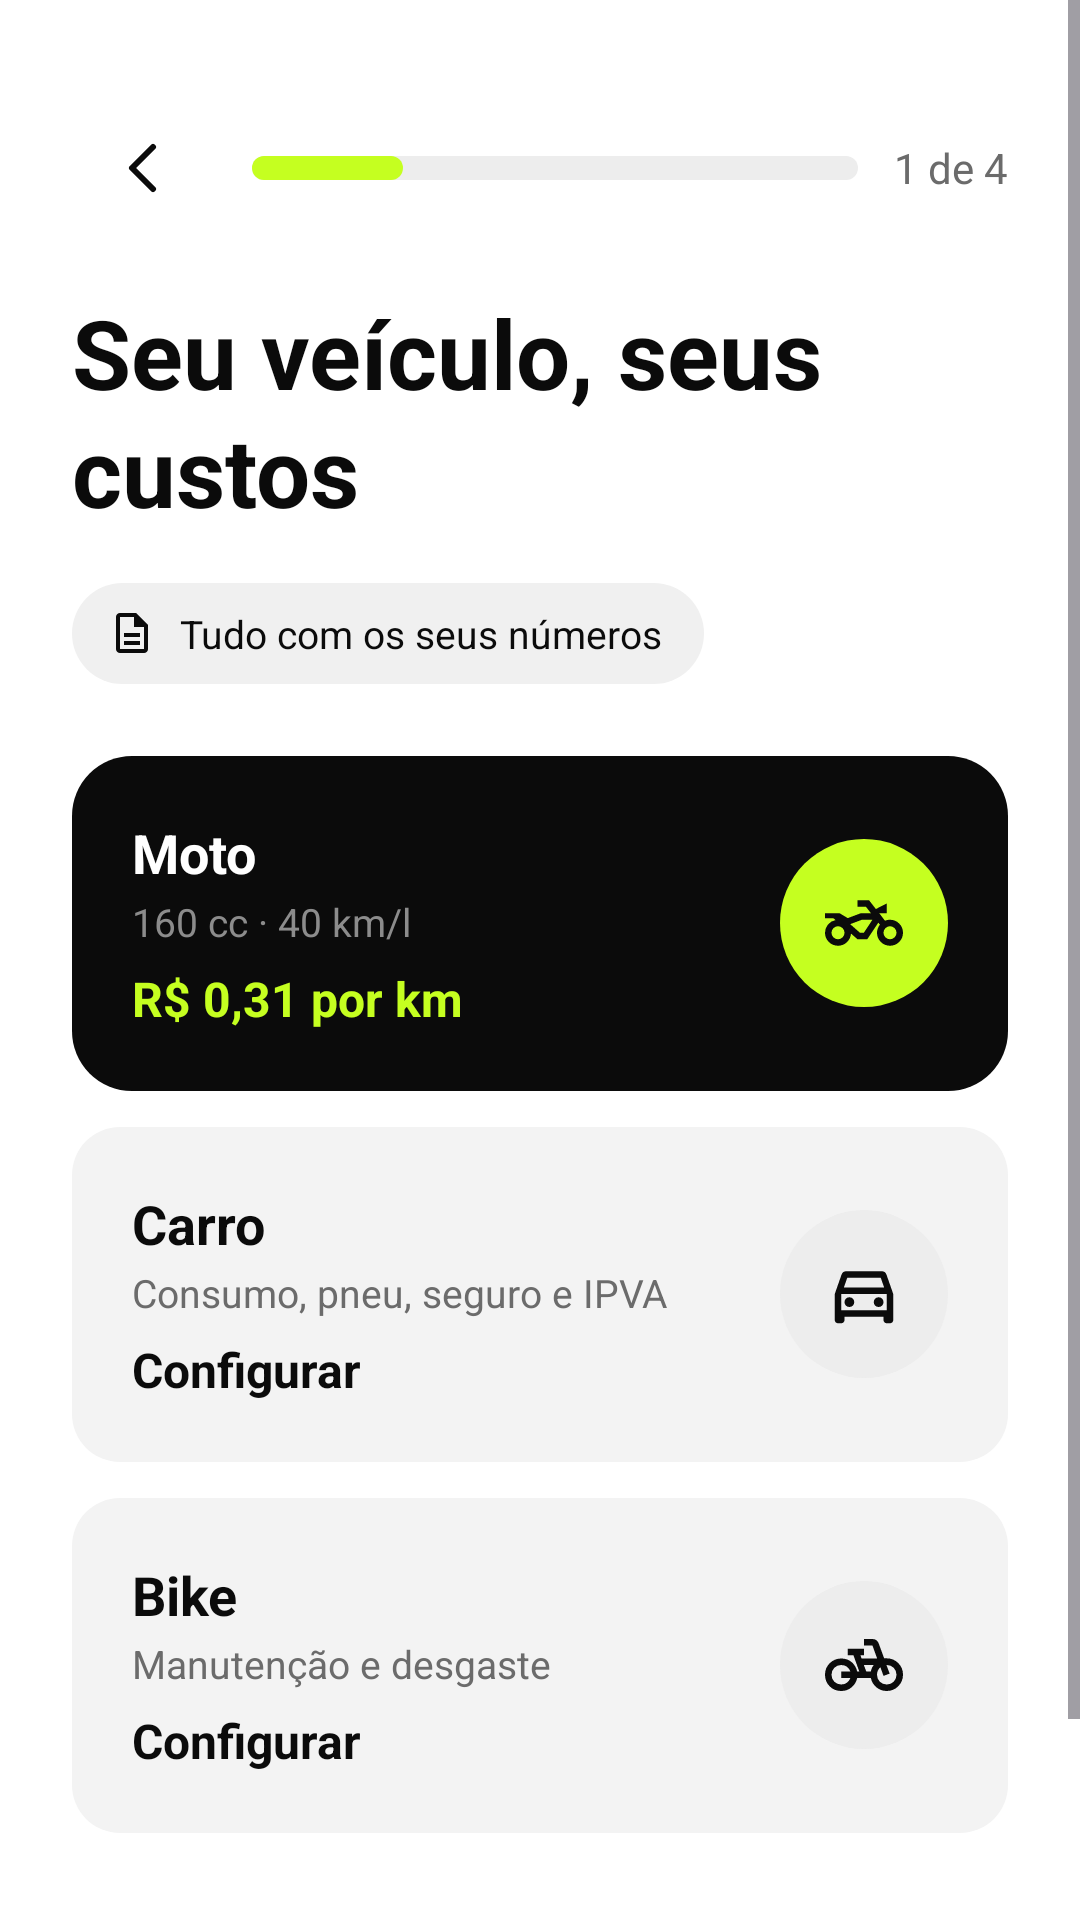

Point at icon controls on the screen. Image size 1080px x 1920px, points as (x=x, y=y).
Bike: (x=864, y=1665)
Carro: (x=864, y=1297)
doc: (x=132, y=633)
Moto: (x=864, y=923)
Voltar: (x=142, y=168)
